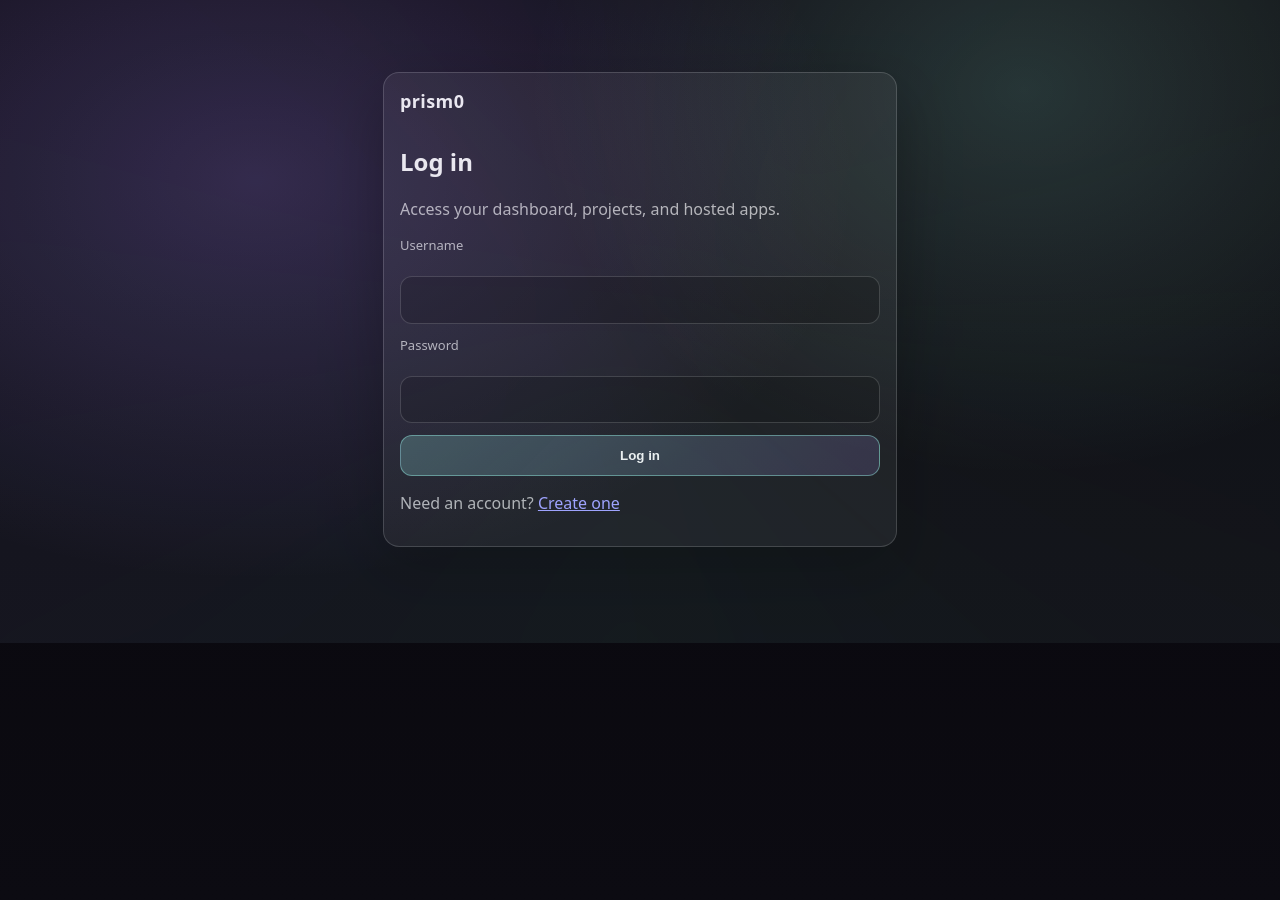
it: LoginPage › shows login errors
Type "bad" into the field labelled "Username" at [640, 300], box [400,276,880,324]
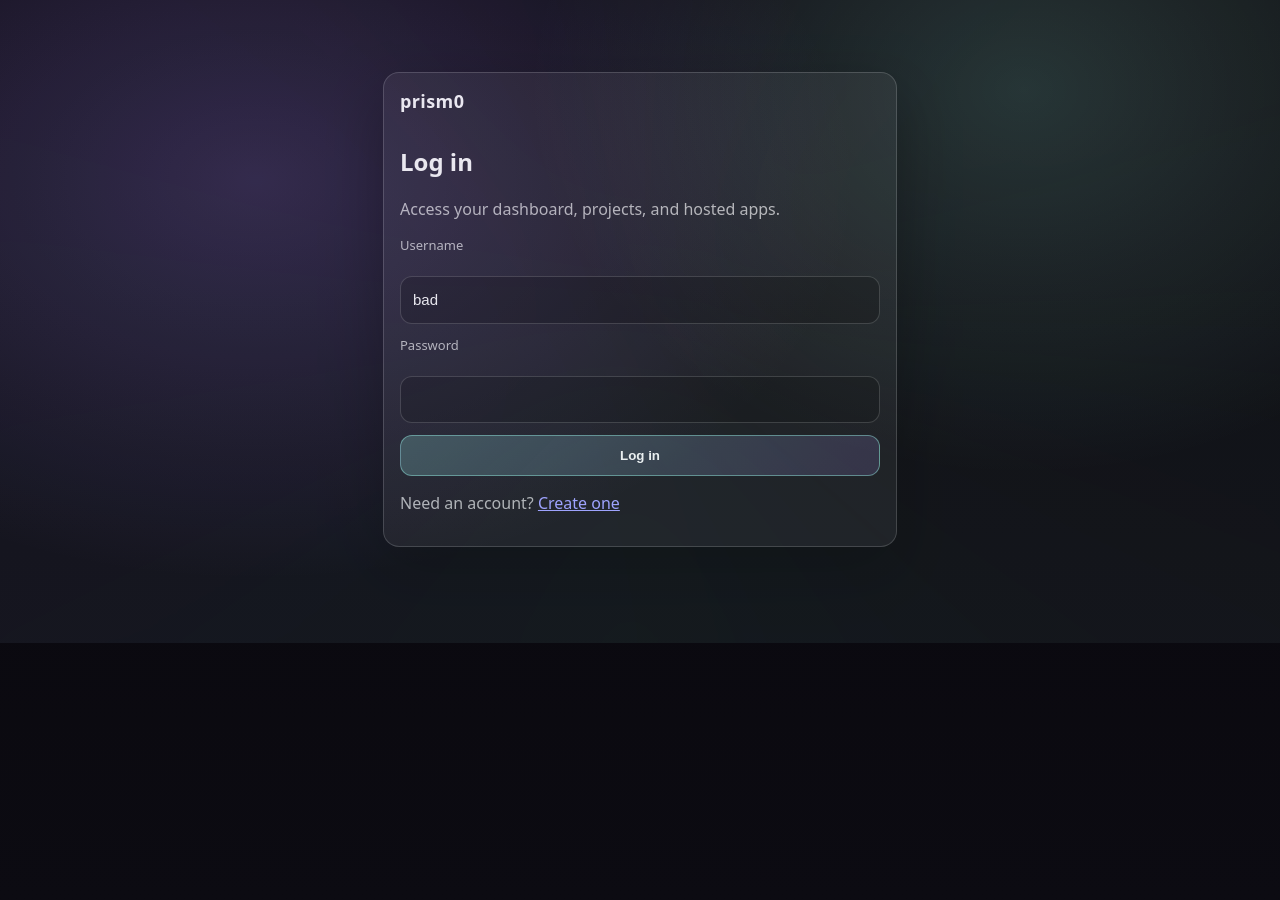
Type "wrong" into the password field labelled "Password" at [640, 400], box [400,376,880,423]
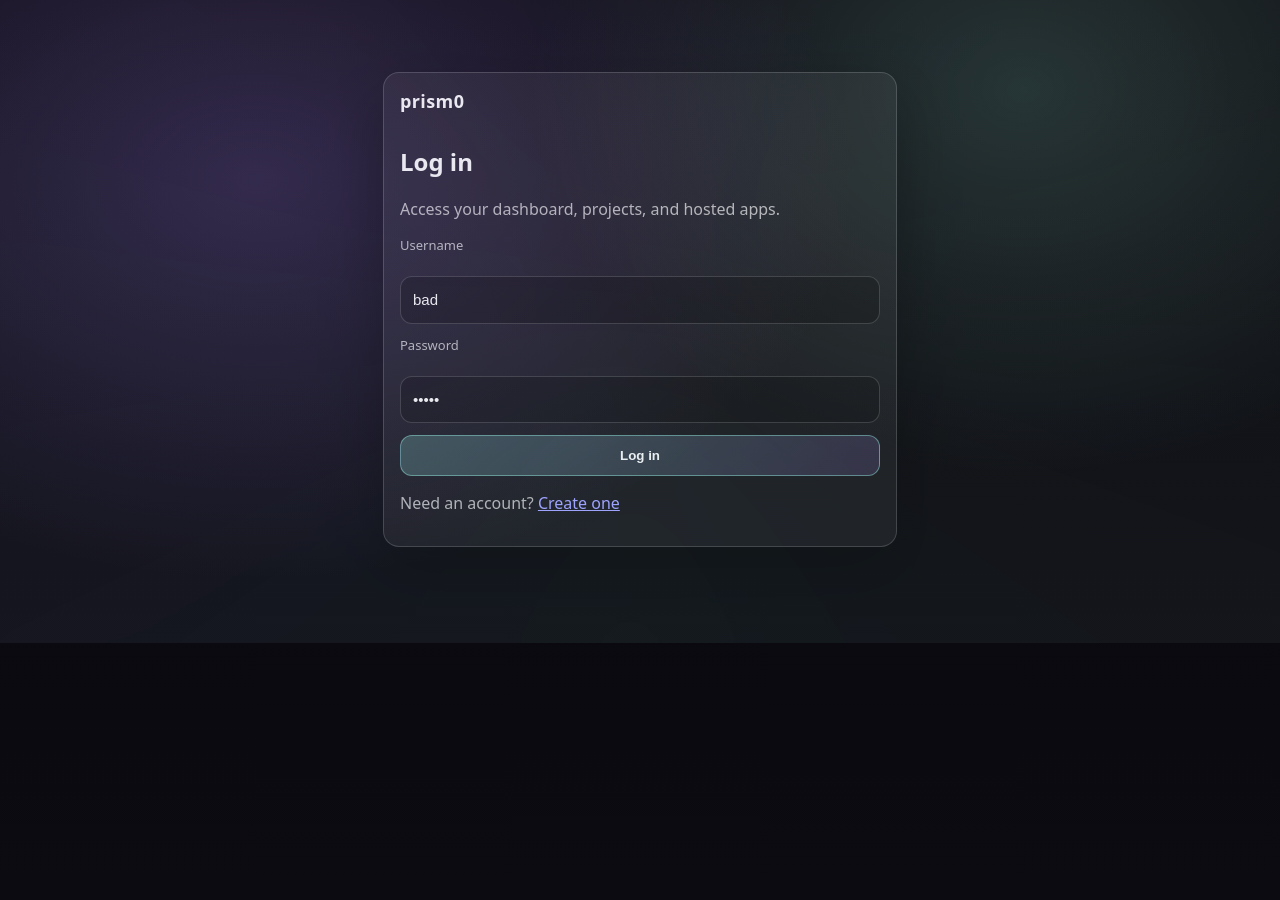
Click the button "Log in" at [640, 456], box [400,435,880,476]
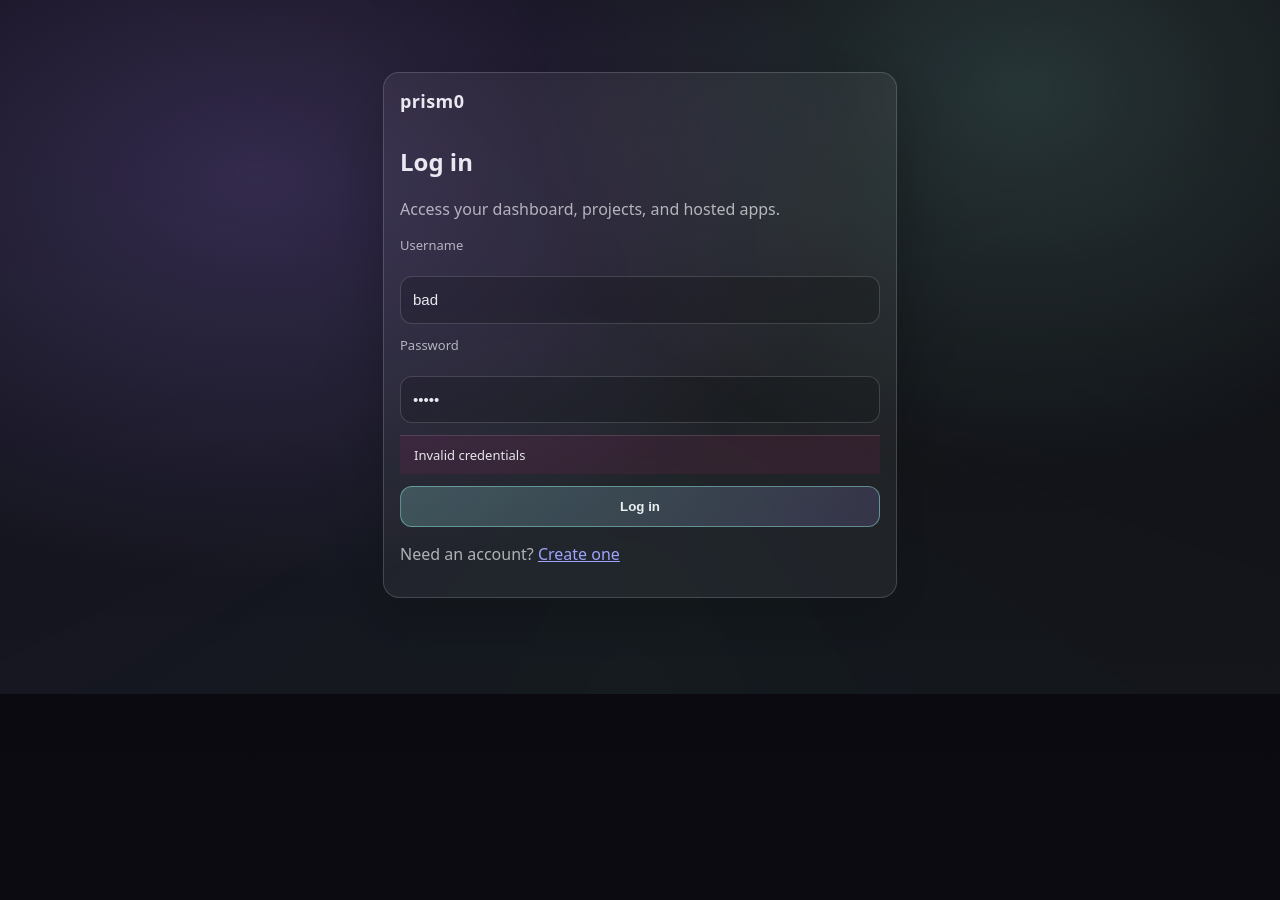
Expected: the text "Invalid credentials" is shown, [400,435,880,474]
